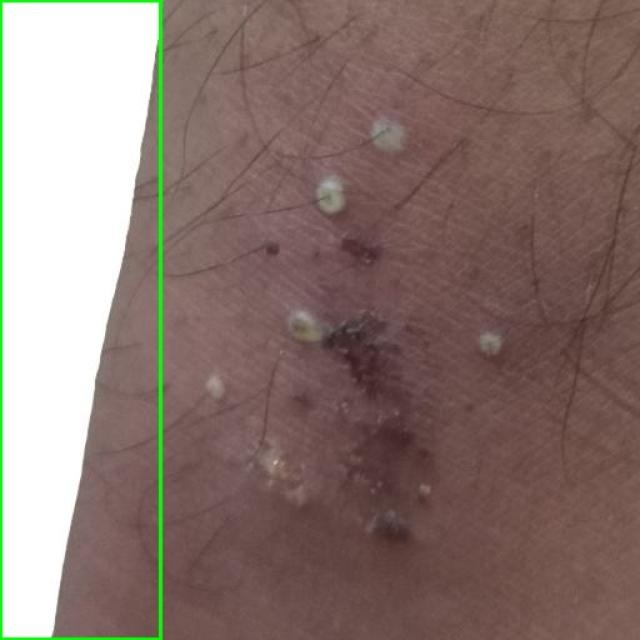Eczema: (0, 0, 160, 639)
